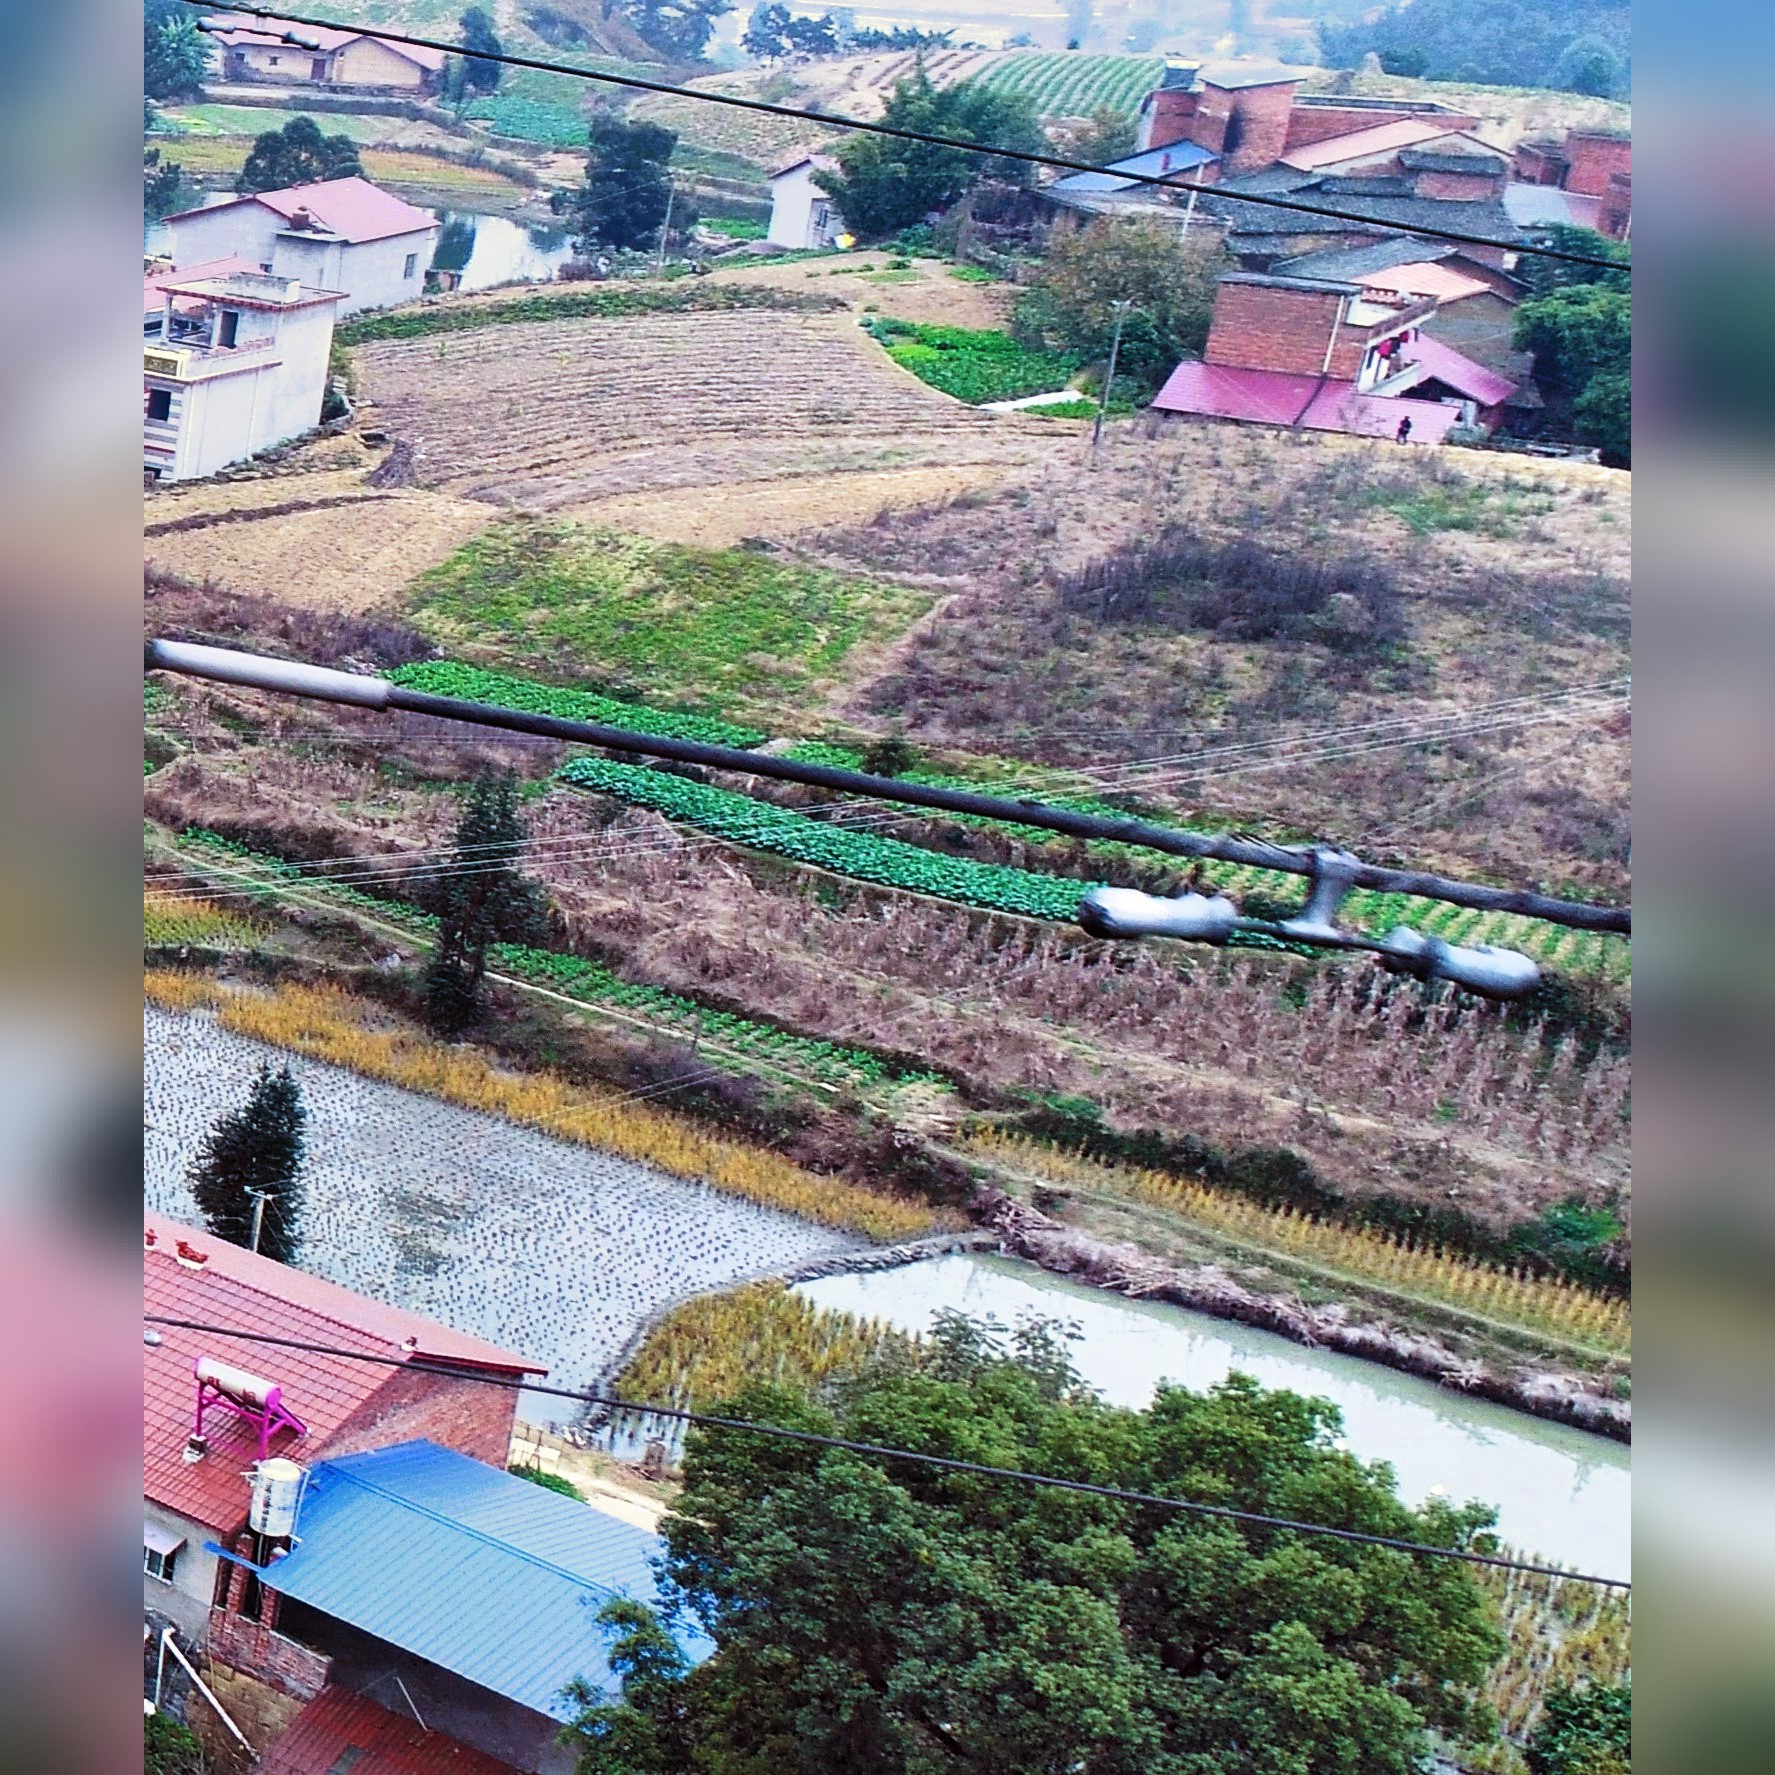Shockproof hammer: (1065, 806, 1564, 1013)
